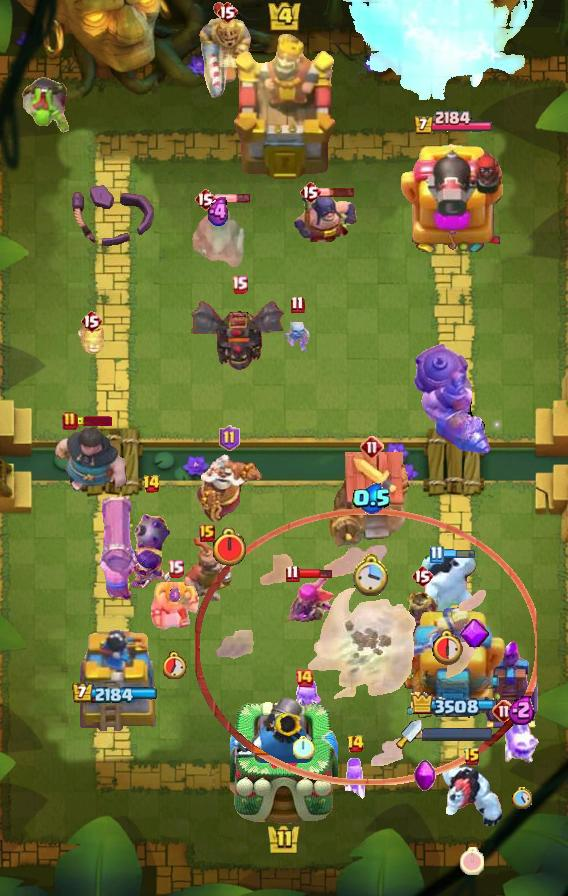archer-evolution: (191, 294, 287, 372)
bar: (399, 607, 507, 731)
bar-level: (20, 74, 70, 134)
battle-healer: (94, 497, 140, 601)
bomber-evolution: (404, 590, 440, 642)
earthquake: (182, 537, 232, 601)
electro-spirit: (352, 483, 392, 514), (508, 695, 536, 726), (205, 197, 233, 227), (169, 589, 181, 604)
elixir: (353, 552, 391, 596), (212, 527, 249, 568), (432, 627, 466, 665), (163, 651, 187, 679), (460, 847, 484, 875), (293, 735, 315, 759), (512, 787, 532, 809)
elixir-collector: (193, 454, 265, 530)
emote: (297, 567, 333, 581), (319, 186, 356, 198), (440, 548, 476, 560), (214, 192, 251, 203), (76, 416, 112, 426)
evolution-symbol: (274, 573, 336, 629)
goblin: (286, 680, 322, 720), (343, 757, 367, 801)
goblin-ball: (127, 497, 175, 593)
goblin-giant: (148, 579, 202, 631)
heal-spirit: (282, 319, 312, 351)
ice-spirit-evolution: (75, 322, 107, 356)
ice-spirit-evolution-symbol: (481, 638, 541, 730)
king-tower: (231, 35, 337, 182), (230, 692, 338, 826)
king-tower-bar: (422, 727, 494, 741)
mega-knight: (335, 0, 557, 126)
mirror: (502, 714, 542, 766)
monk: (292, 188, 358, 246)
mortar-evolution: (190, 204, 248, 272)
queen-tower: (64, 621, 164, 731)
rage: (419, 551, 479, 623), (440, 763, 504, 829)
ram-rider: (198, 0, 256, 100)
royal-ghost: (195, 509, 537, 785)
royal-hog: (36, 425, 130, 495)
selected: (409, 691, 497, 716), (414, 110, 495, 136), (71, 683, 157, 705)
skeleton-king-skill: (459, 619, 489, 647), (414, 759, 438, 793)
sparky: (329, 451, 415, 549)
text: (360, 435, 384, 459), (492, 699, 516, 723), (220, 425, 241, 451), (216, 0, 238, 24), (299, 180, 321, 204), (194, 187, 216, 211), (80, 309, 102, 333), (411, 564, 433, 588), (294, 668, 314, 688), (143, 474, 162, 494), (347, 734, 366, 754), (463, 747, 481, 767), (167, 559, 185, 578), (231, 274, 248, 293), (62, 411, 78, 431), (199, 524, 215, 542), (429, 545, 444, 564), (285, 565, 300, 583), (291, 295, 305, 314)
tower-bar: (399, 138, 507, 256)
wizard: (411, 342, 493, 456)
